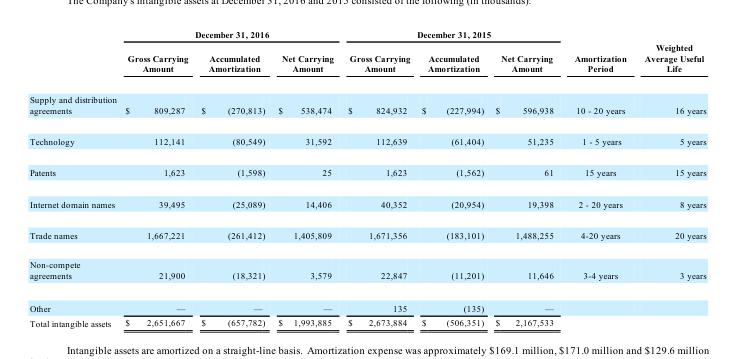table: (29, 28, 705, 327)
table column: (29, 28, 120, 327), (193, 28, 270, 327), (340, 28, 415, 327), (488, 28, 563, 327), (120, 28, 193, 327), (415, 28, 488, 327), (563, 28, 634, 327), (634, 28, 705, 327), (270, 28, 340, 327)
table column header: (29, 28, 705, 83)
table row: (29, 83, 705, 125), (29, 249, 705, 291), (29, 45, 705, 83), (29, 187, 705, 219), (29, 125, 705, 156), (29, 156, 705, 187), (29, 219, 705, 249), (29, 291, 705, 314), (29, 28, 705, 45), (29, 314, 705, 327)
table spanning cell: (563, 28, 634, 83), (634, 28, 705, 83), (340, 28, 563, 45), (120, 28, 340, 45)
